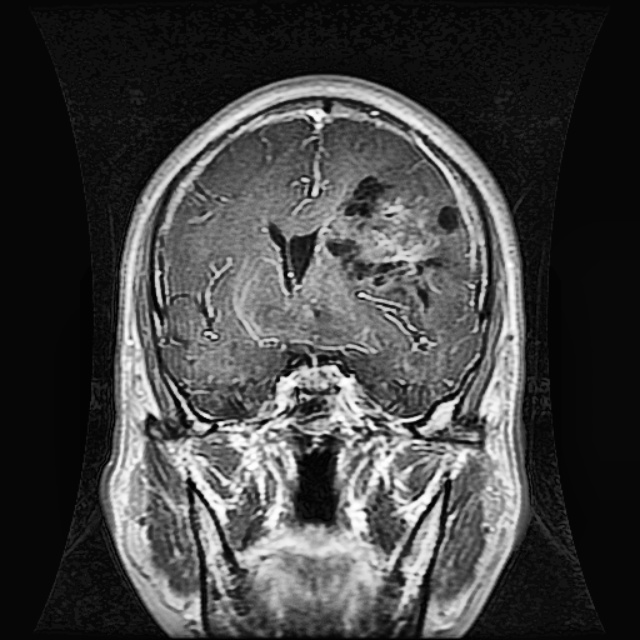Glioma: (322, 173, 463, 302)
